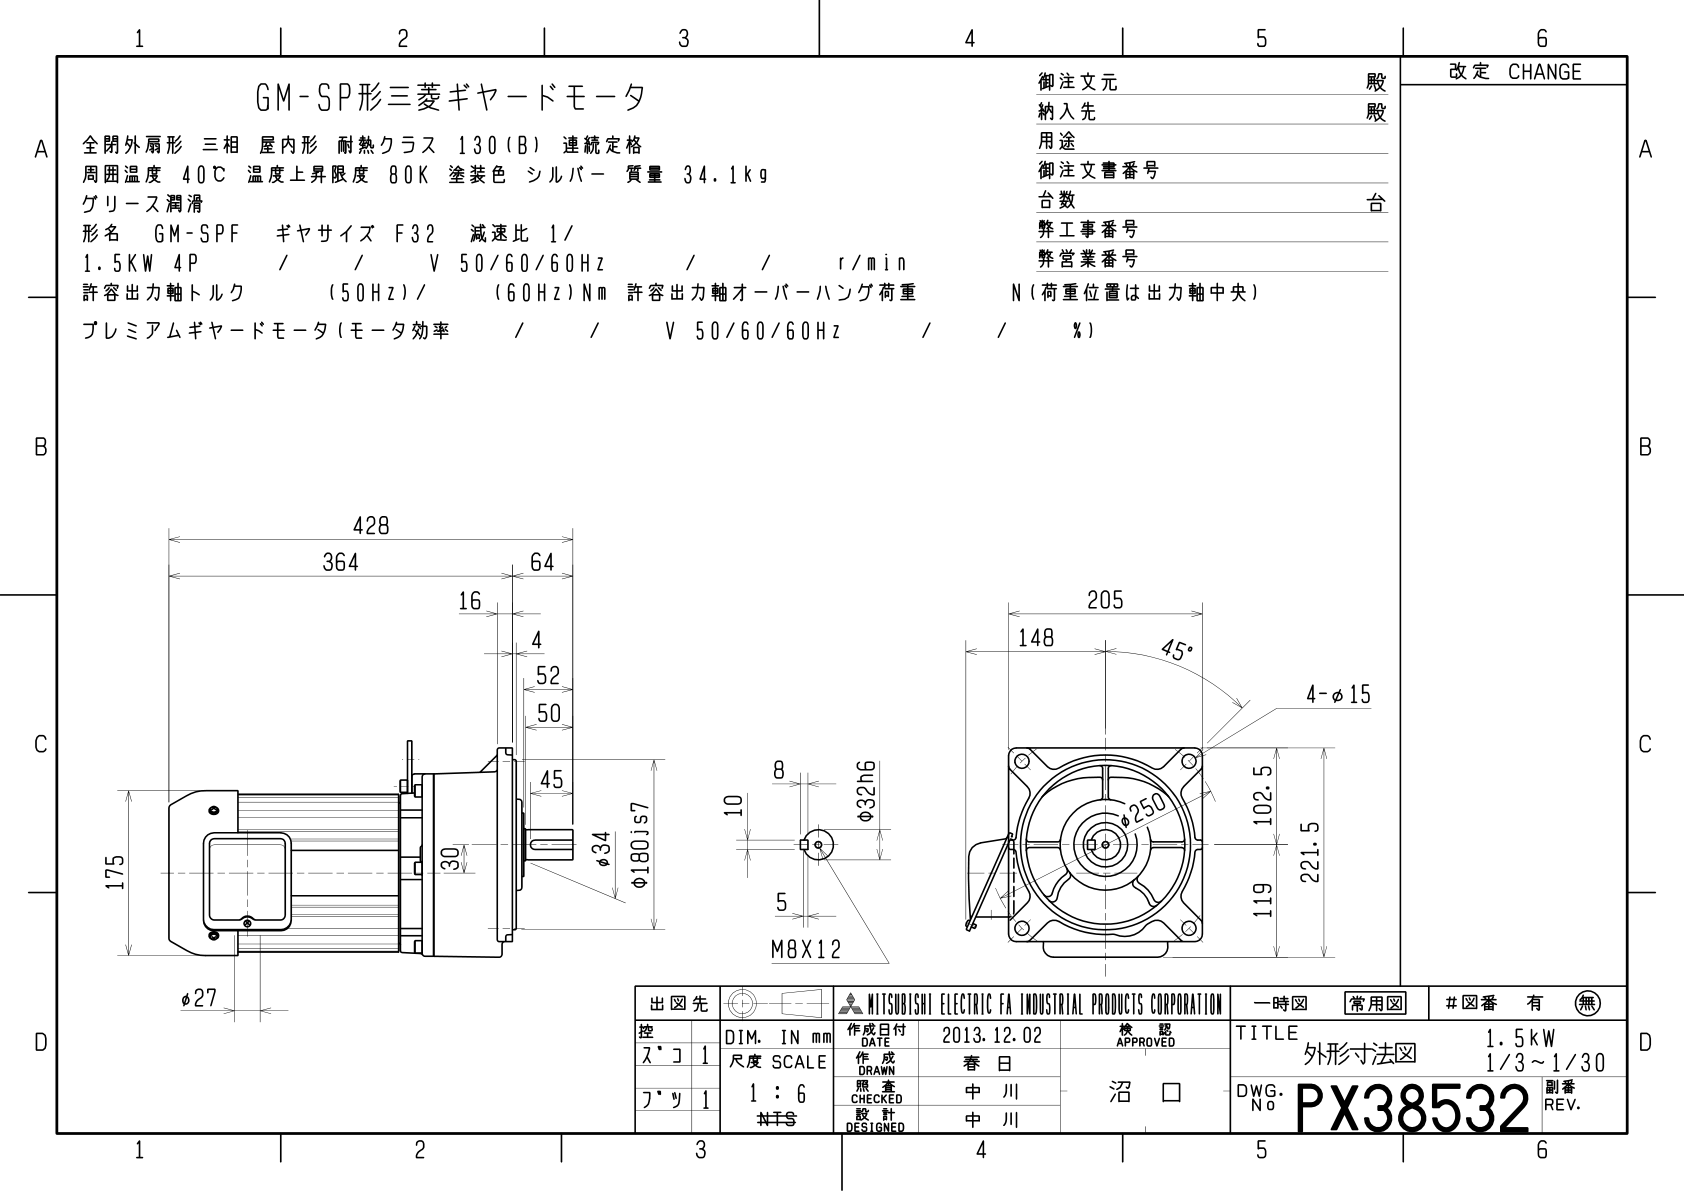GM_SP_屋内_三相_フランジ: (81, 504, 1379, 978)
